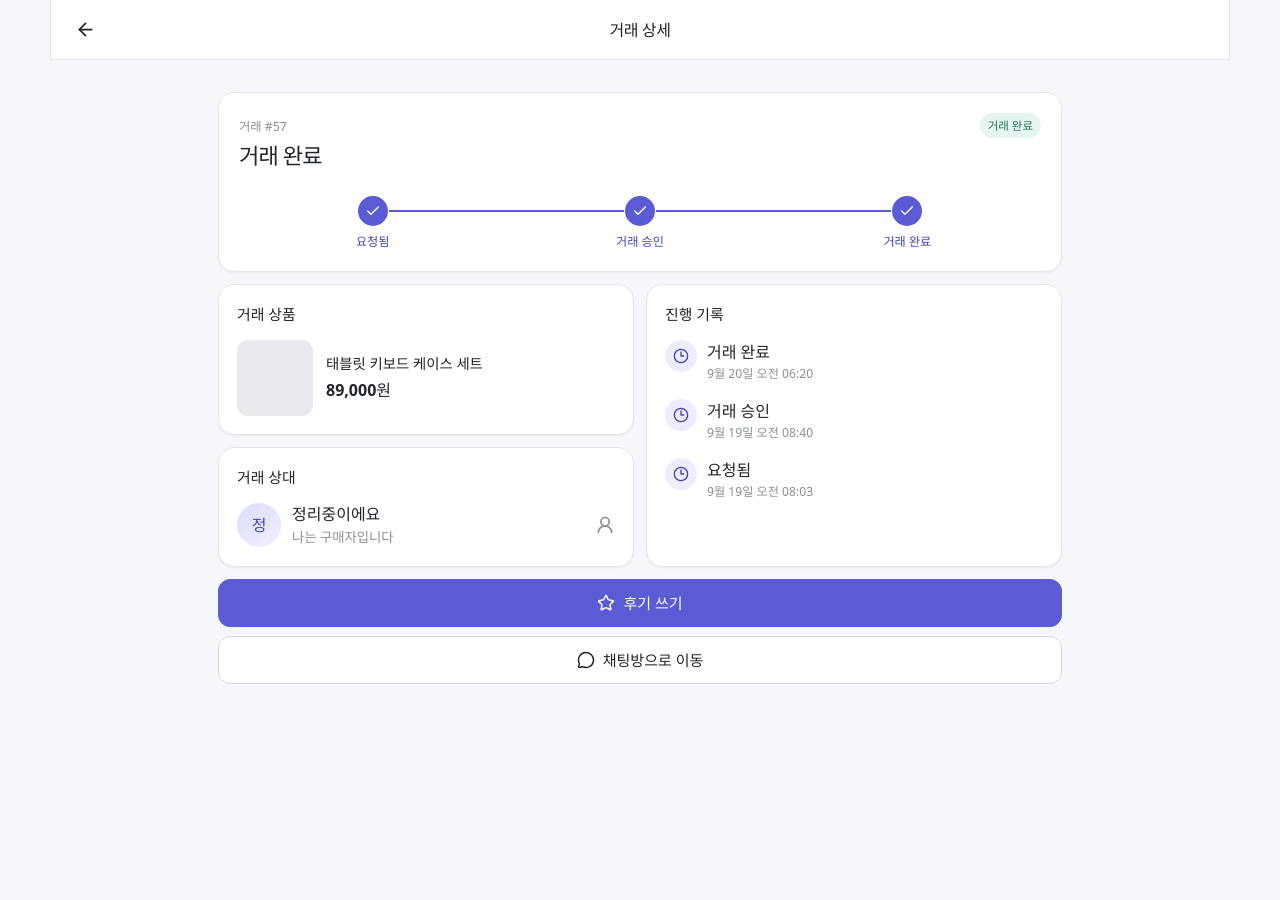
it: 개발자 A 핵심 거래 흐름 › 완료 거래의 후기를 등록하고 작성 상태를 거래 화면에 반영한다
Click the link "후기 쓰기" at [640, 603], box [218,579,1062,627]
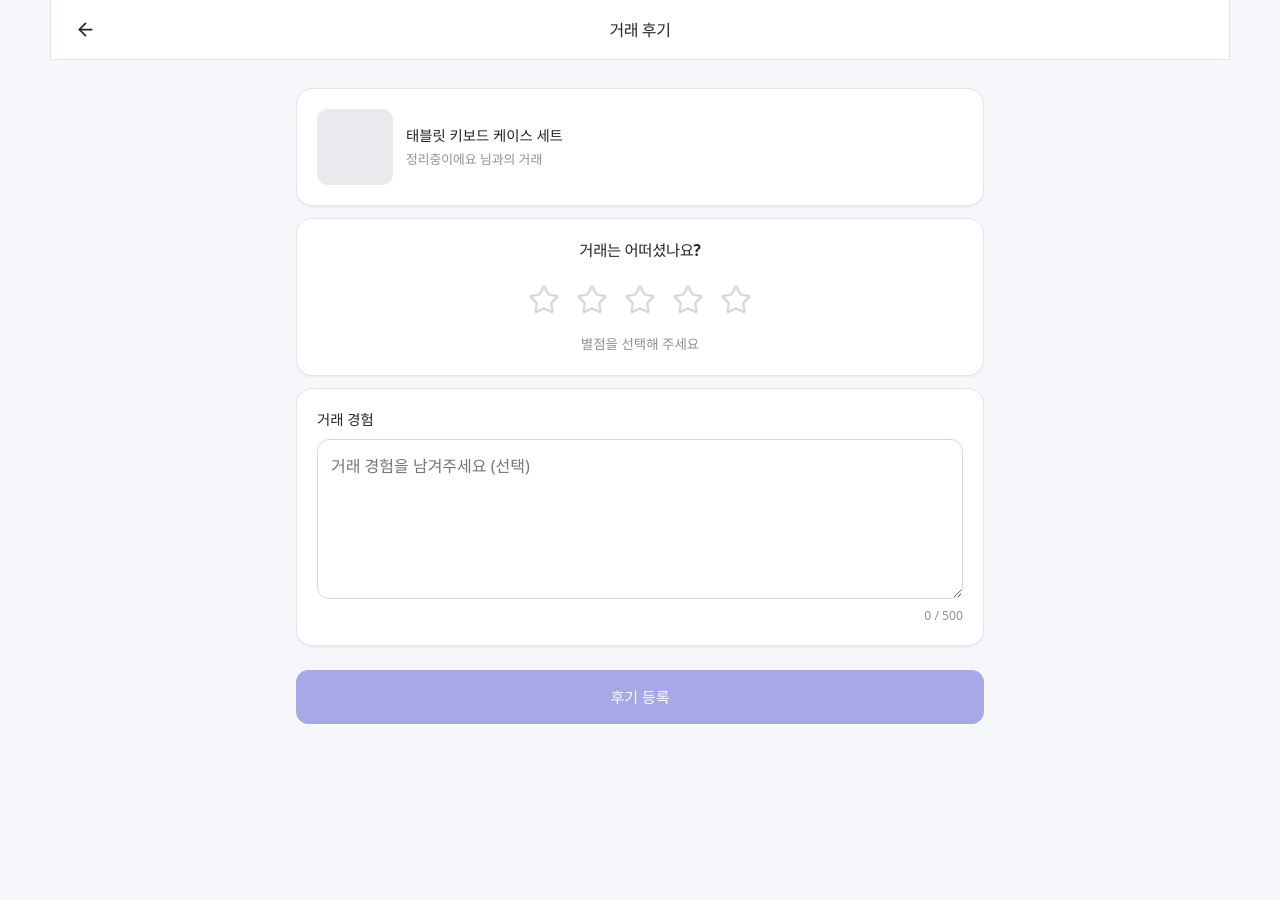
Now the heading "거래 후기" is shown, box [610,18,670,40]
Now the button "후기 등록" is disabled, box [296,670,984,724]
Click the button named "5점" at [736, 300], box [714,276,758,324]
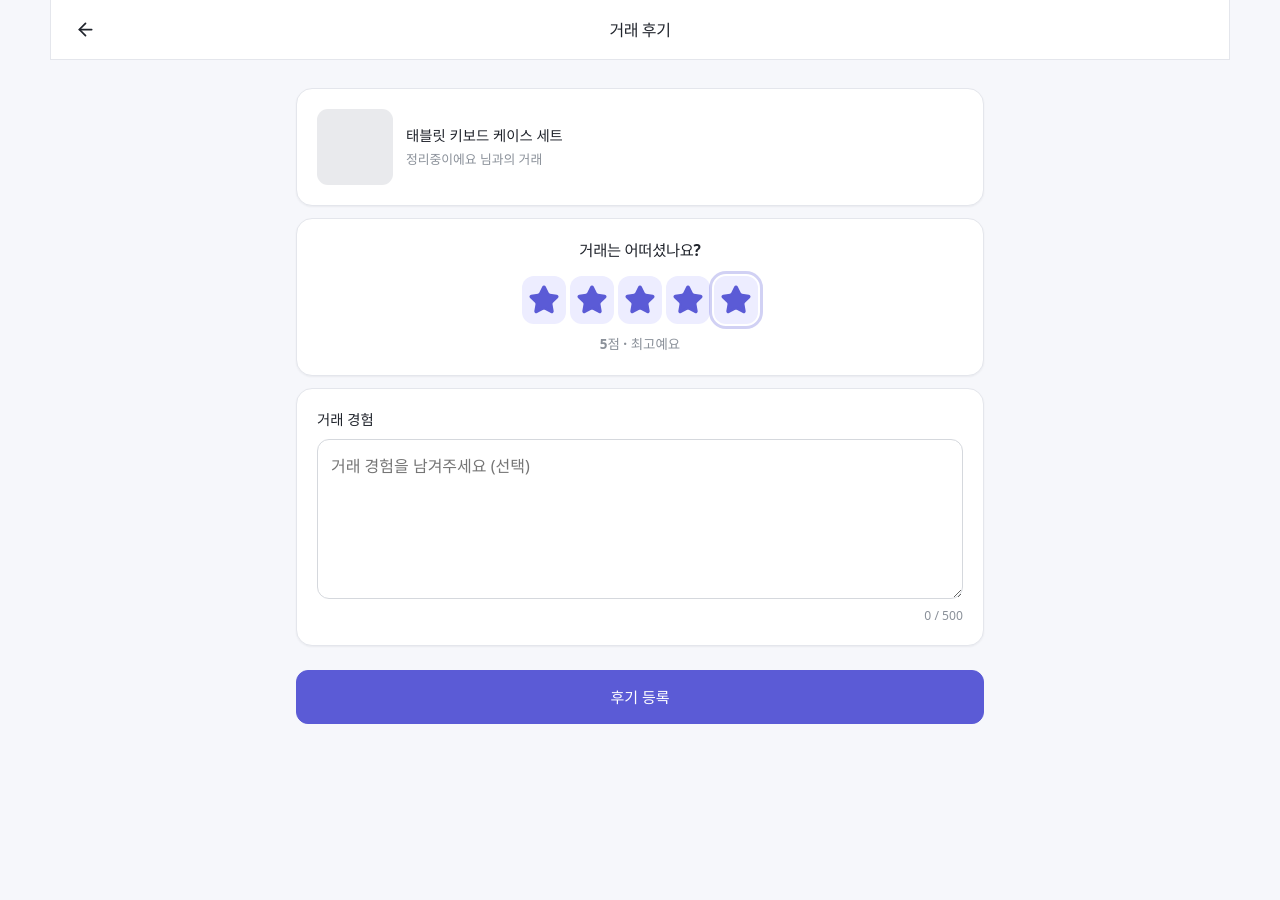
Type "친절하고 편안한 거래였습니다." into the text box labelled "거래 경험" at [640, 519], box [317,439,963,599]
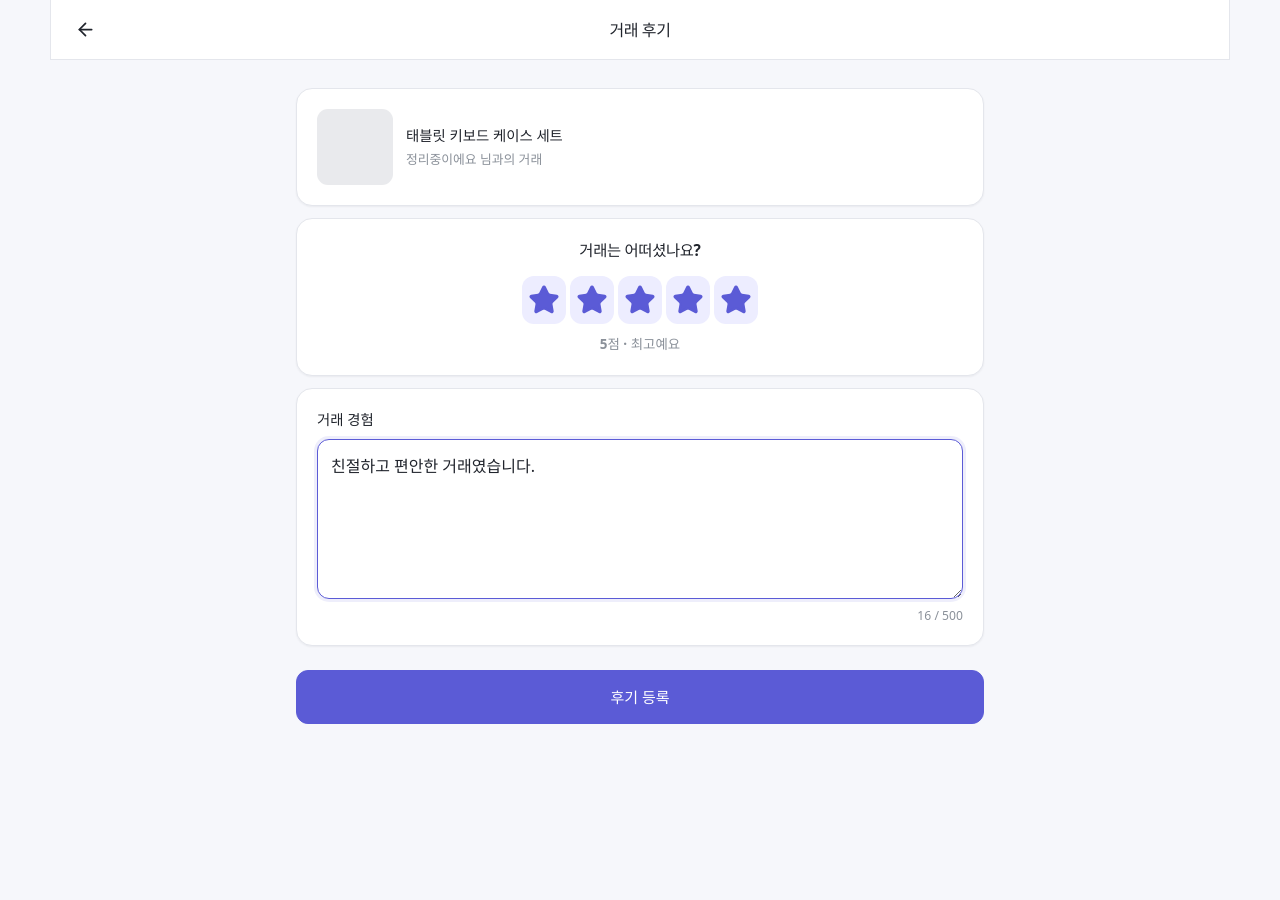
Click the button "후기 등록" at [640, 697], box [296,670,984,724]
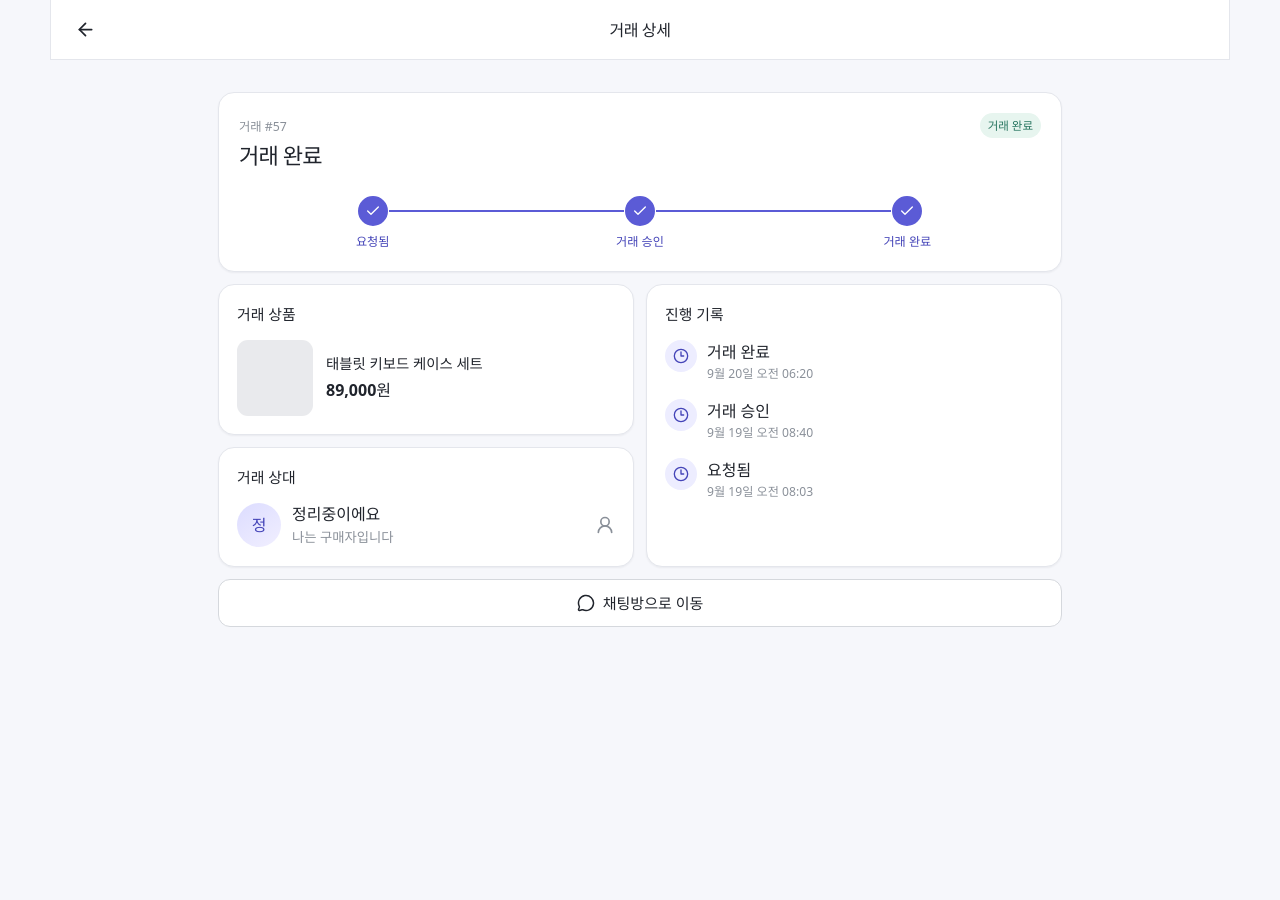
Expected: the link "후기 쓰기" is not shown
Now the heading "거래 완료" is shown, box [239,139,322,172]
